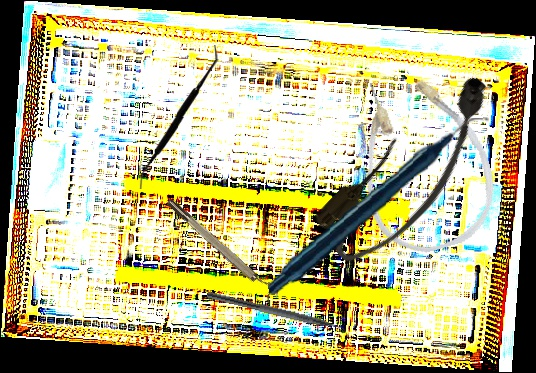Cannula: (306, 64, 520, 277), (337, 58, 509, 264)
Chopper: (204, 291, 354, 342)
Fixation Ring: (164, 191, 283, 305)
Handpiece: (257, 117, 501, 295)
Spatula Surgical: (134, 44, 221, 190)
